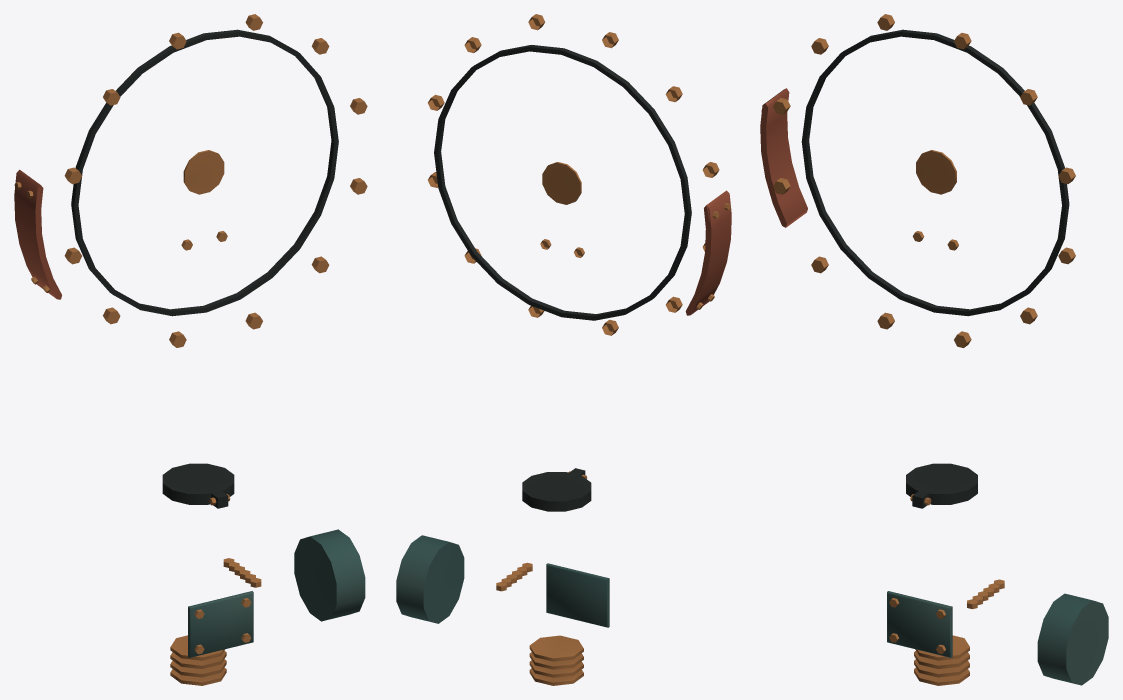
Rendered from gauge_dial_detail1.glb.
3 renders of one model, left to right at view 1: azimuth 30°, elevation 25°; view 2: azimuth 150°, elevation 25°; view 3: azimuth 330°, elevation 25°, orthographic. The views are drawn at different scales.
Parts seen in each view (by area): view 1: DialDetail1; view 2: DialDetail1; view 3: DialDetail1.
Part boxes in pixels (x1=…): DialDetail1: x1=14, y1=14, x2=367, y2=685; DialDetail1: x1=396, y1=14, x2=731, y2=685; DialDetail1: x1=760, y1=14, x2=1108, y2=685.
Bounding box in the file's own units: 2.22 × 4.32 × 0.5511.
